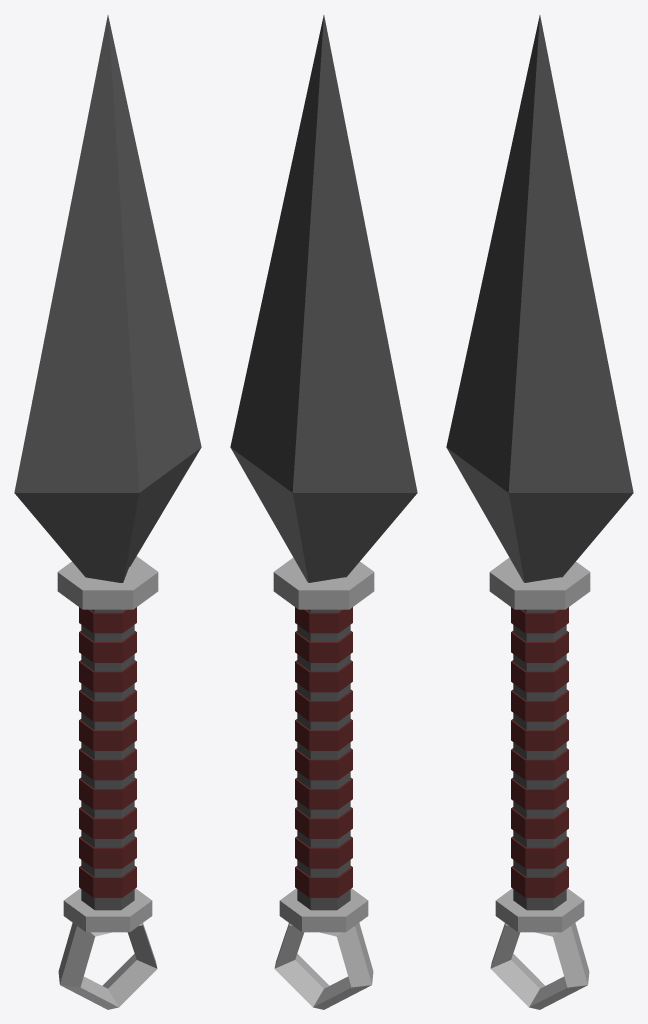
File: Kunai.fbx
3 renders of one model, left to right at view 1: azimuth 30°, elevation 25°; view 2: azimuth 150°, elevation 25°; view 3: azimuth 330°, elevation 25°, orthographic.
Parts seen in each view (by area): view 1: Kunai; view 2: Kunai; view 3: Kunai.
Boxes of the visible parts, <box> form: Kunai: <box>14,15,201,1009</box>; Kunai: <box>230,15,417,1009</box>; Kunai: <box>446,15,633,1009</box>.
Size of the model in its own units: 20.02 by 102 by 11.59.
